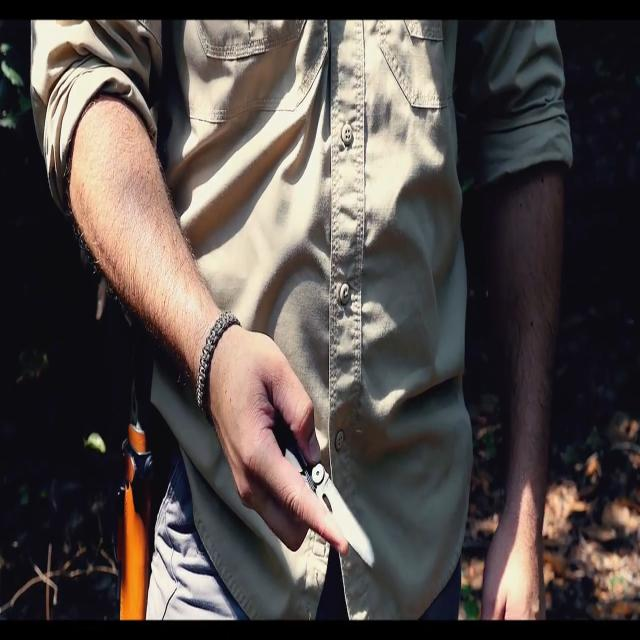knife: (314, 465, 380, 574)
